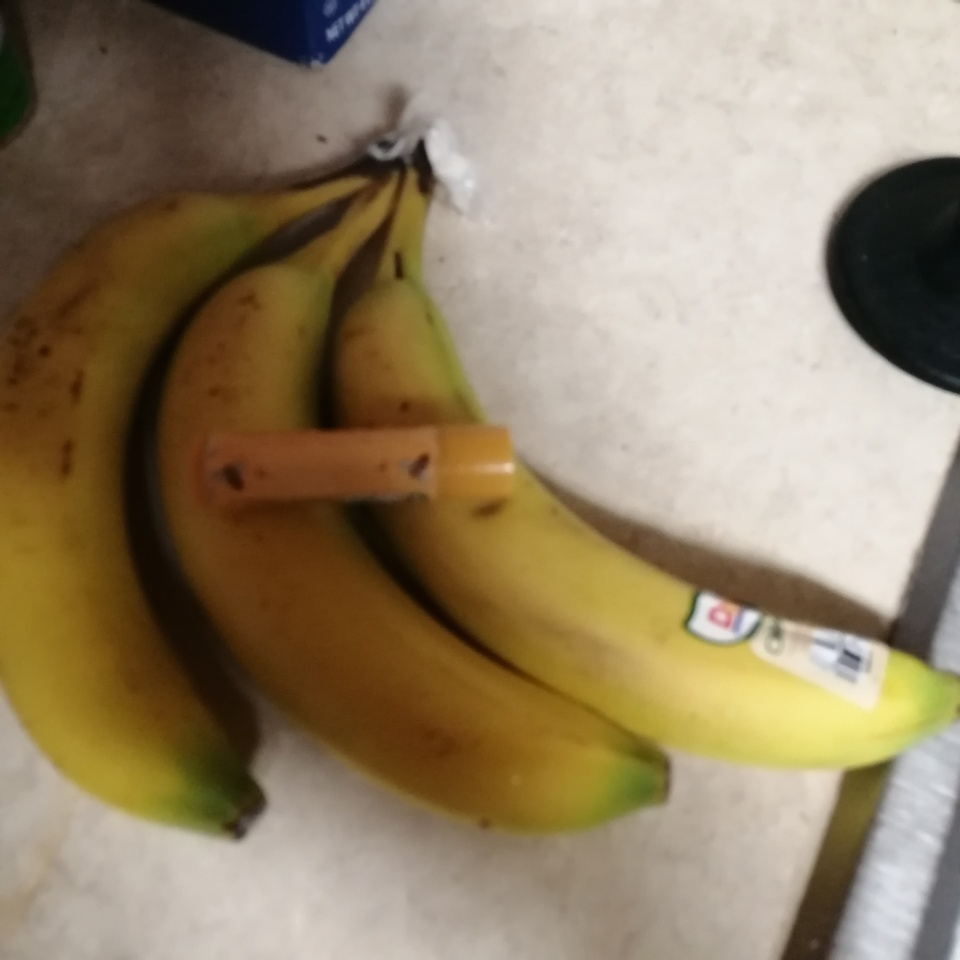chapstick: (193, 424, 517, 510)
